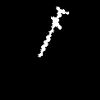double_crochet: (39, 7, 68, 56)
